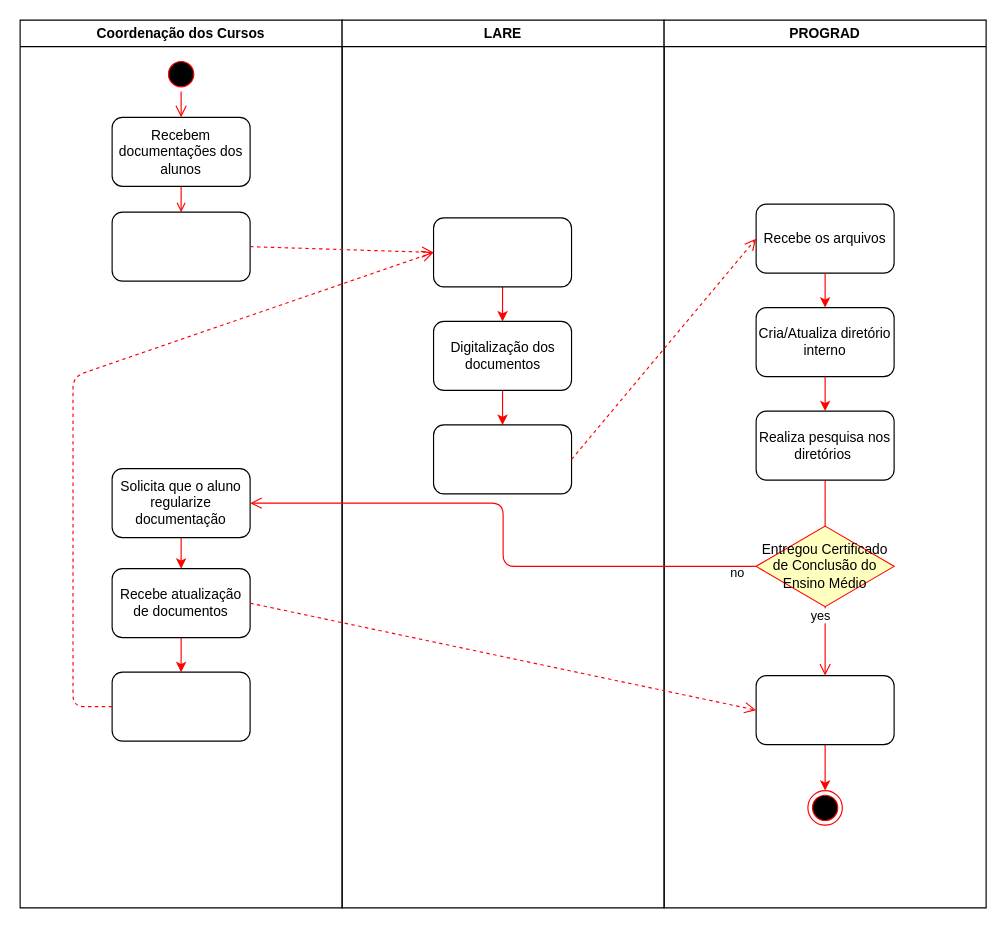
Image size: 1006x928. Some labels were removed from this diagram. The centre of each missing label's shape, as x and y in pixels:
Autoriza colação de grau do aluno: point (824, 709)
Envia as mídias digitais: point (502, 459)
Envia malote para o LARE: point (180, 706)
Enviam seus malotes para o LARE: point (180, 246)
Recebe documentação para digitalizar: point (502, 252)
